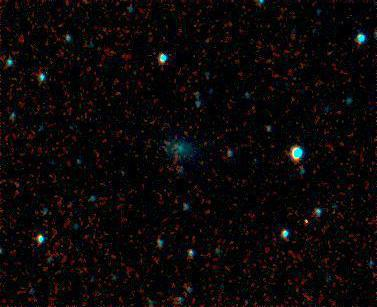star: (157, 124, 187, 154)
